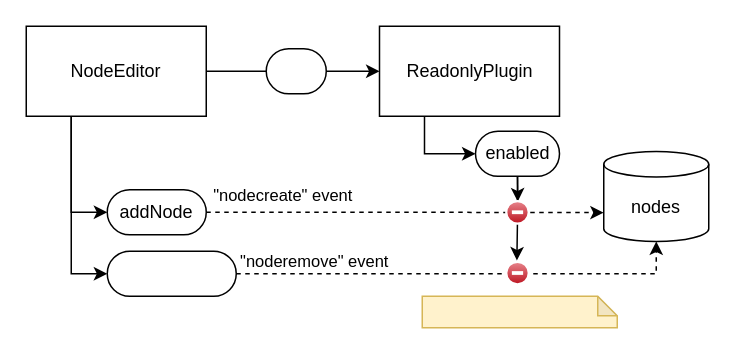
This 735x354 diagram has some shape labels left out. Here are the shapes that lost their labels. From the top down, the centre of each, then its label:
[295,70]: use
[171,273]: removeNode
[519,311]: prevents if enabled
